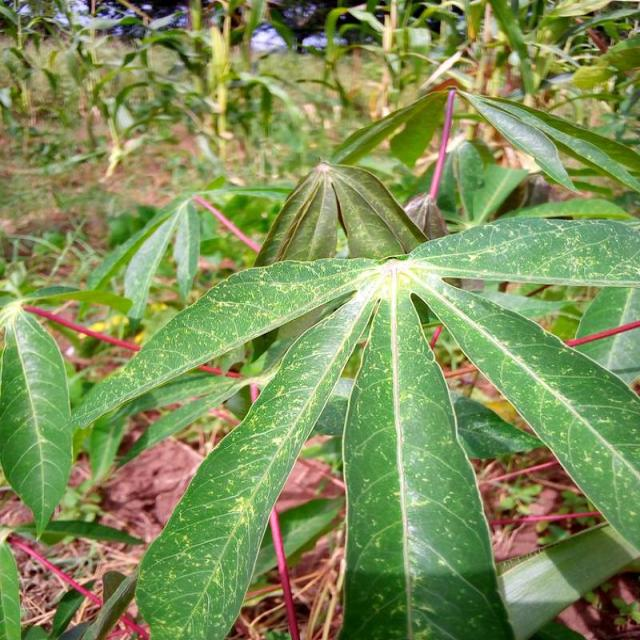cassava leaf: (71, 160, 638, 638), (336, 270, 514, 638), (0, 301, 73, 540)
